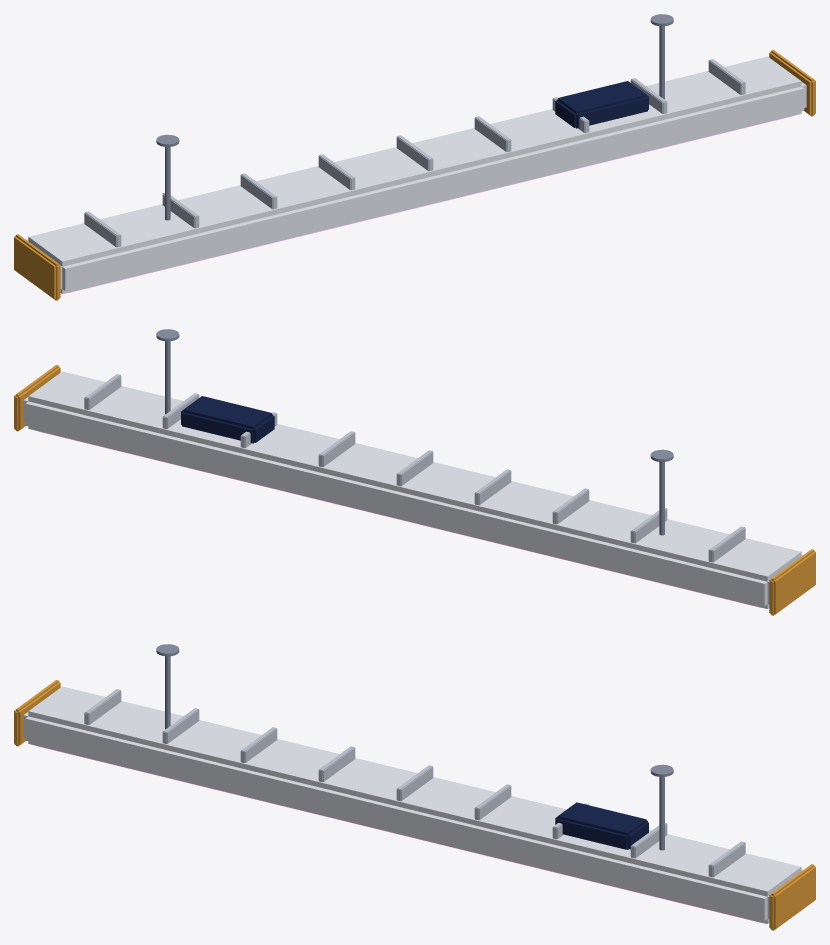
File: grow_light.glb
3 views of the same model, one above another, from view 1: azimuth 30°, elevation 25°; view 2: azimuth 150°, elevation 25°; view 3: azimuth 330°, elevation 25° (orthographic).
Parts seen in each view (by area): view 1: Body_White, Body_Dim, Base_Midnight, Trim_Gold, Steel, LED_Emissive; view 2: Body_White, Body_Dim, Base_Midnight, Trim_Gold, Steel, LED_Emissive; view 3: Body_White, Body_Dim, Base_Midnight, Trim_Gold, Steel, LED_Emissive.
Boxes of the visible parts, x1=… form: Body_White: x1=26, y1=56, x2=806, y2=293; Body_Dim: x1=84, y1=59, x2=745, y2=247; Base_Midnight: x1=555, y1=81, x2=648, y2=128; Trim_Gold: x1=14, y1=50, x2=815, y2=300; Steel: x1=156, y1=14, x2=673, y2=220; LED_Emissive: x1=68, y1=116, x2=791, y2=292; Body_White: x1=23, y1=371, x2=803, y2=608; Body_Dim: x1=84, y1=374, x2=745, y2=562; Base_Midnight: x1=181, y1=396, x2=274, y2=443; Trim_Gold: x1=14, y1=365, x2=815, y2=615; Steel: x1=156, y1=329, x2=673, y2=535; LED_Emissive: x1=38, y1=431, x2=761, y2=607; Body_White: x1=23, y1=686, x2=803, y2=923; Body_Dim: x1=84, y1=689, x2=745, y2=877; Base_Midnight: x1=555, y1=802, x2=648, y2=849; Trim_Gold: x1=14, y1=680, x2=815, y2=930; Steel: x1=156, y1=644, x2=673, y2=850; LED_Emissive: x1=38, y1=746, x2=761, y2=922.
Bounding box in the file's own units: 1.22 × 0.175 × 0.118.
